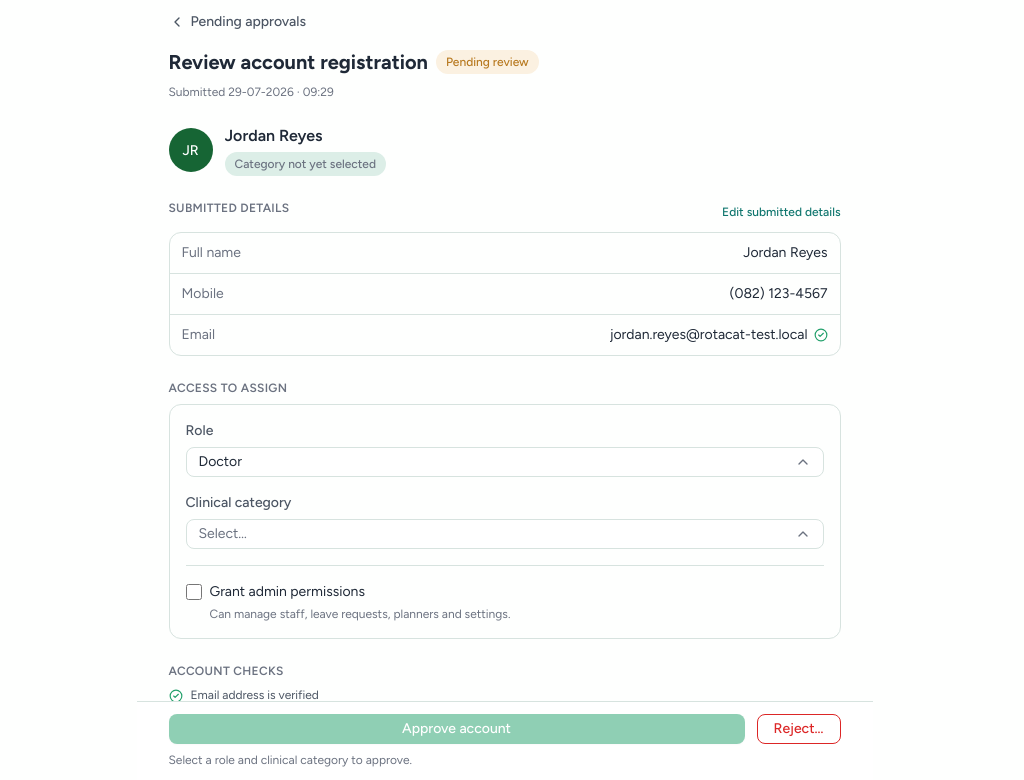
PendingApprovalReviewPage › shows both Active from/until for Intern, but only Active from for MO
Click the button named "Clinical category": (223, 534) [186,519,824,549]
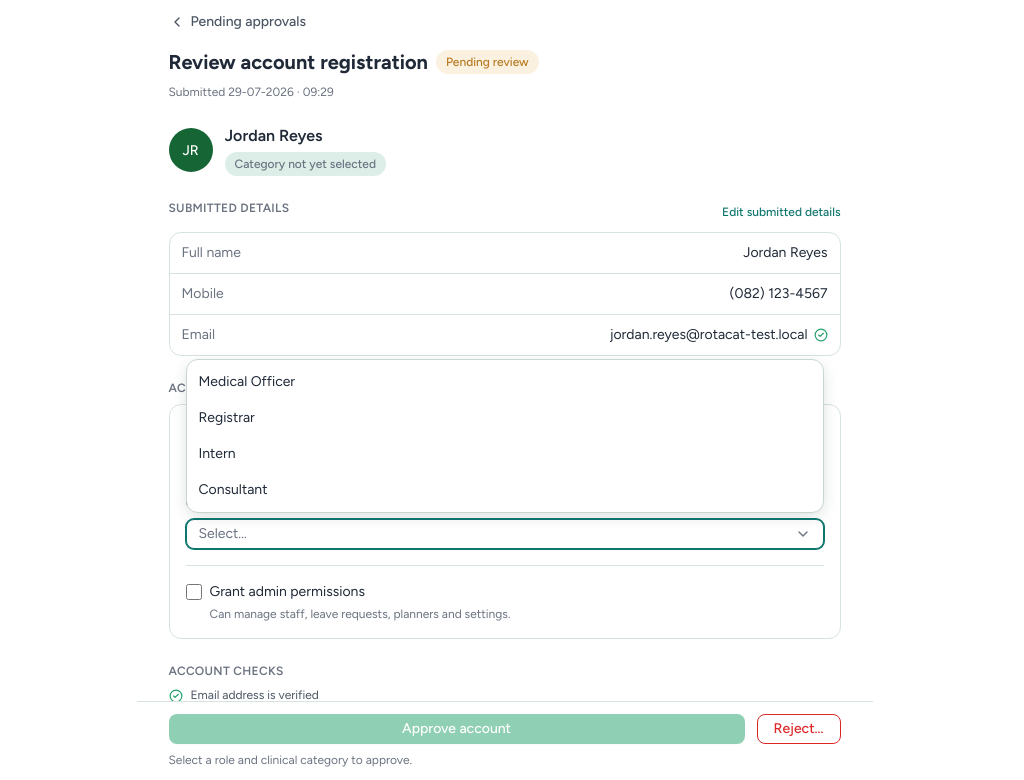
Click the option "Intern": (217, 454) [186,436,822,472]
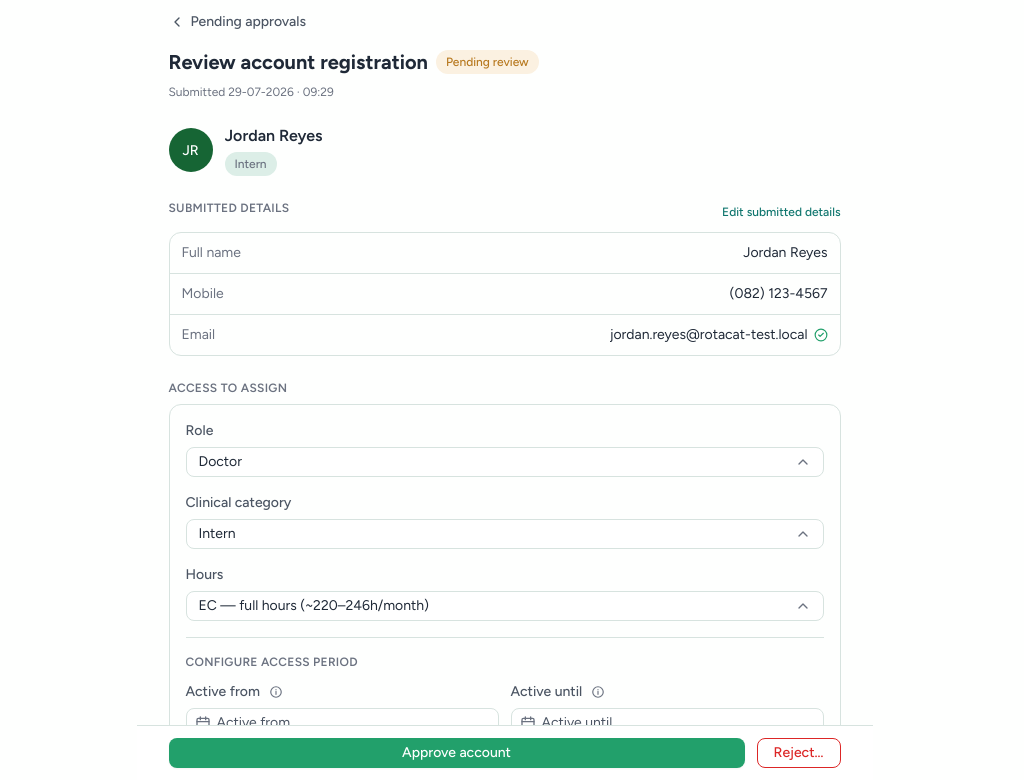
Expected: the date field labelled "Active from" is shown, [186,682,260,702]
Expected: the date field labelled "Active until" is shown, [510,682,582,702]
Click the button named "Clinical category": (217, 534) [186,519,824,549]
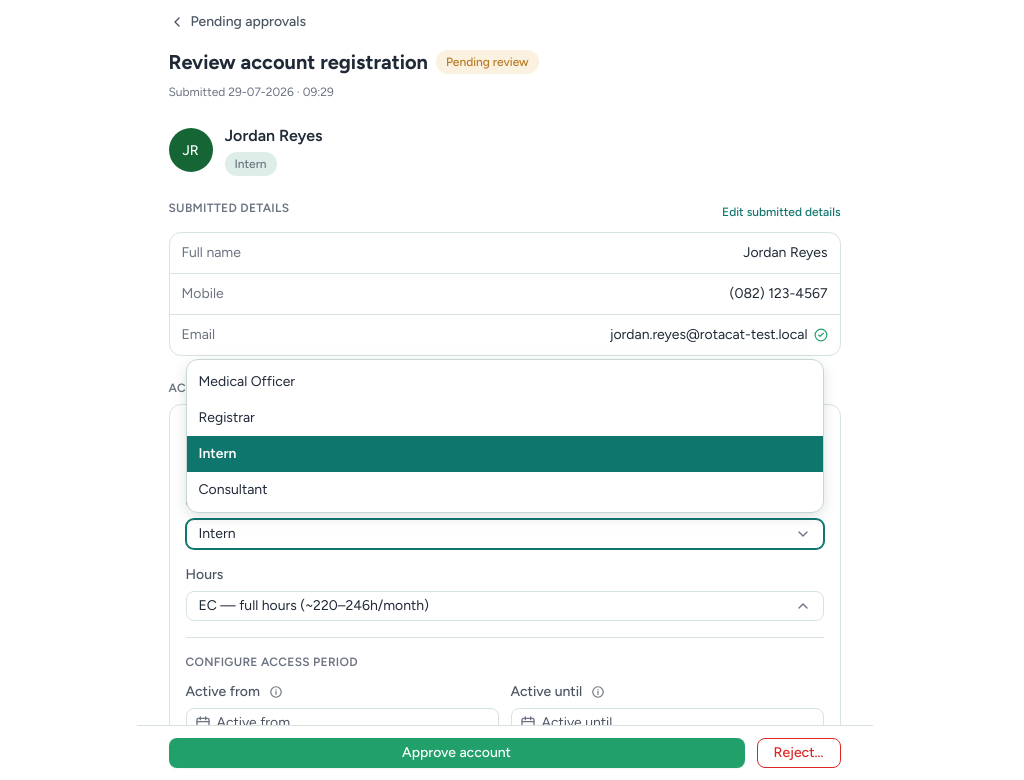
Click the option "Medical Officer": (247, 382) [186,364,822,400]
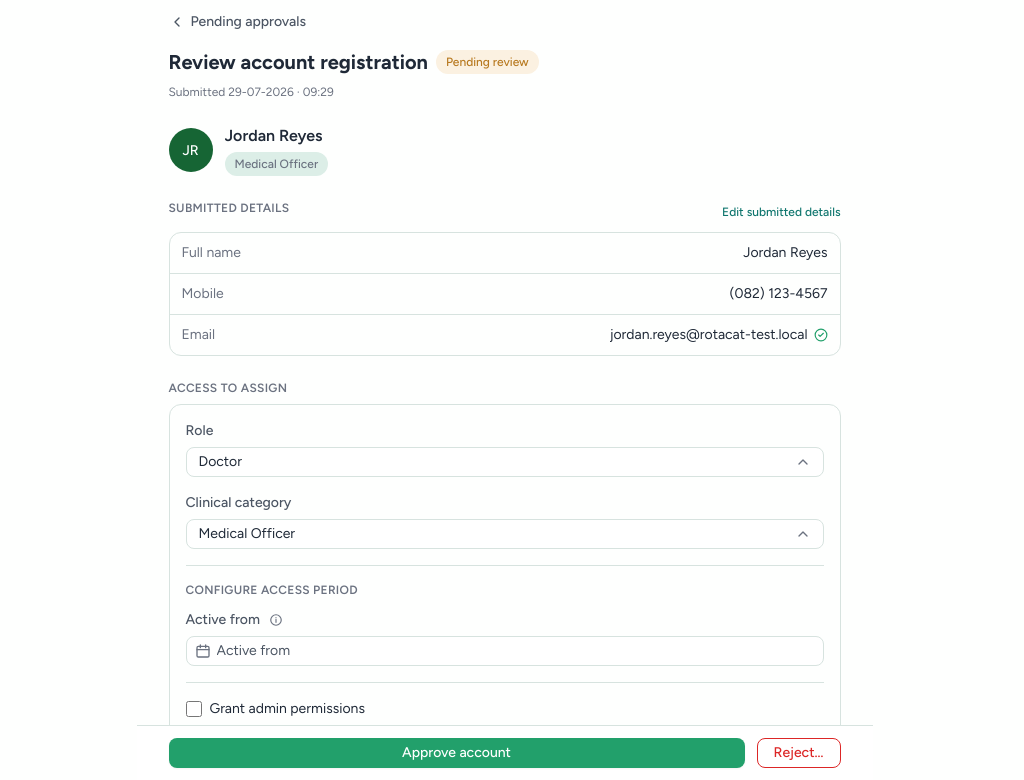
Expected: the date field labelled "Active from" is shown, [186,610,260,630]
Expected: the date field labelled "Active until" is gone
